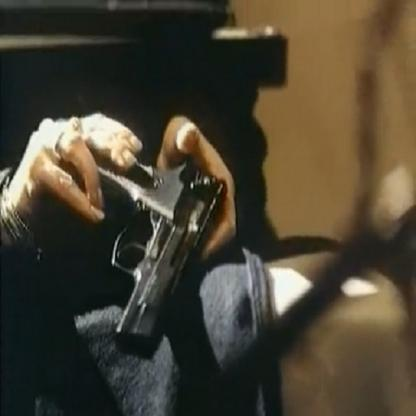gun: (80, 129, 229, 372)
